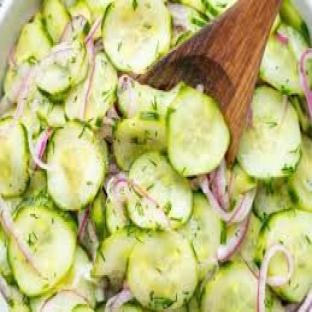Cucumber: (9, 206, 75, 295), (238, 87, 301, 180), (168, 86, 230, 176), (127, 232, 197, 310), (47, 123, 107, 210), (257, 210, 311, 302), (129, 153, 192, 228), (31, 247, 96, 311), (180, 193, 225, 279), (66, 54, 118, 128), (92, 227, 142, 286), (117, 76, 180, 120), (200, 263, 257, 311), (114, 118, 166, 170), (261, 34, 302, 94), (0, 118, 30, 197), (253, 179, 296, 221), (168, 4, 208, 46), (15, 20, 51, 64), (290, 137, 311, 210), (61, 36, 89, 86), (238, 213, 262, 271), (37, 65, 71, 101), (278, 25, 308, 62), (4, 62, 31, 102), (0, 277, 31, 311), (228, 163, 256, 199), (40, 290, 86, 311), (37, 97, 67, 128), (91, 190, 108, 239), (291, 97, 311, 138), (107, 200, 130, 234), (62, 15, 90, 41), (20, 100, 40, 135), (23, 169, 46, 199), (0, 229, 13, 281), (111, 303, 145, 311), (187, 293, 199, 311), (72, 304, 93, 311)
